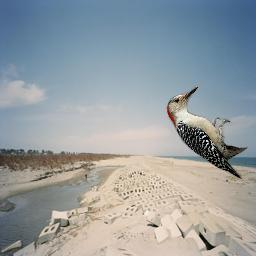Woodpecker: (166, 85, 248, 179)
